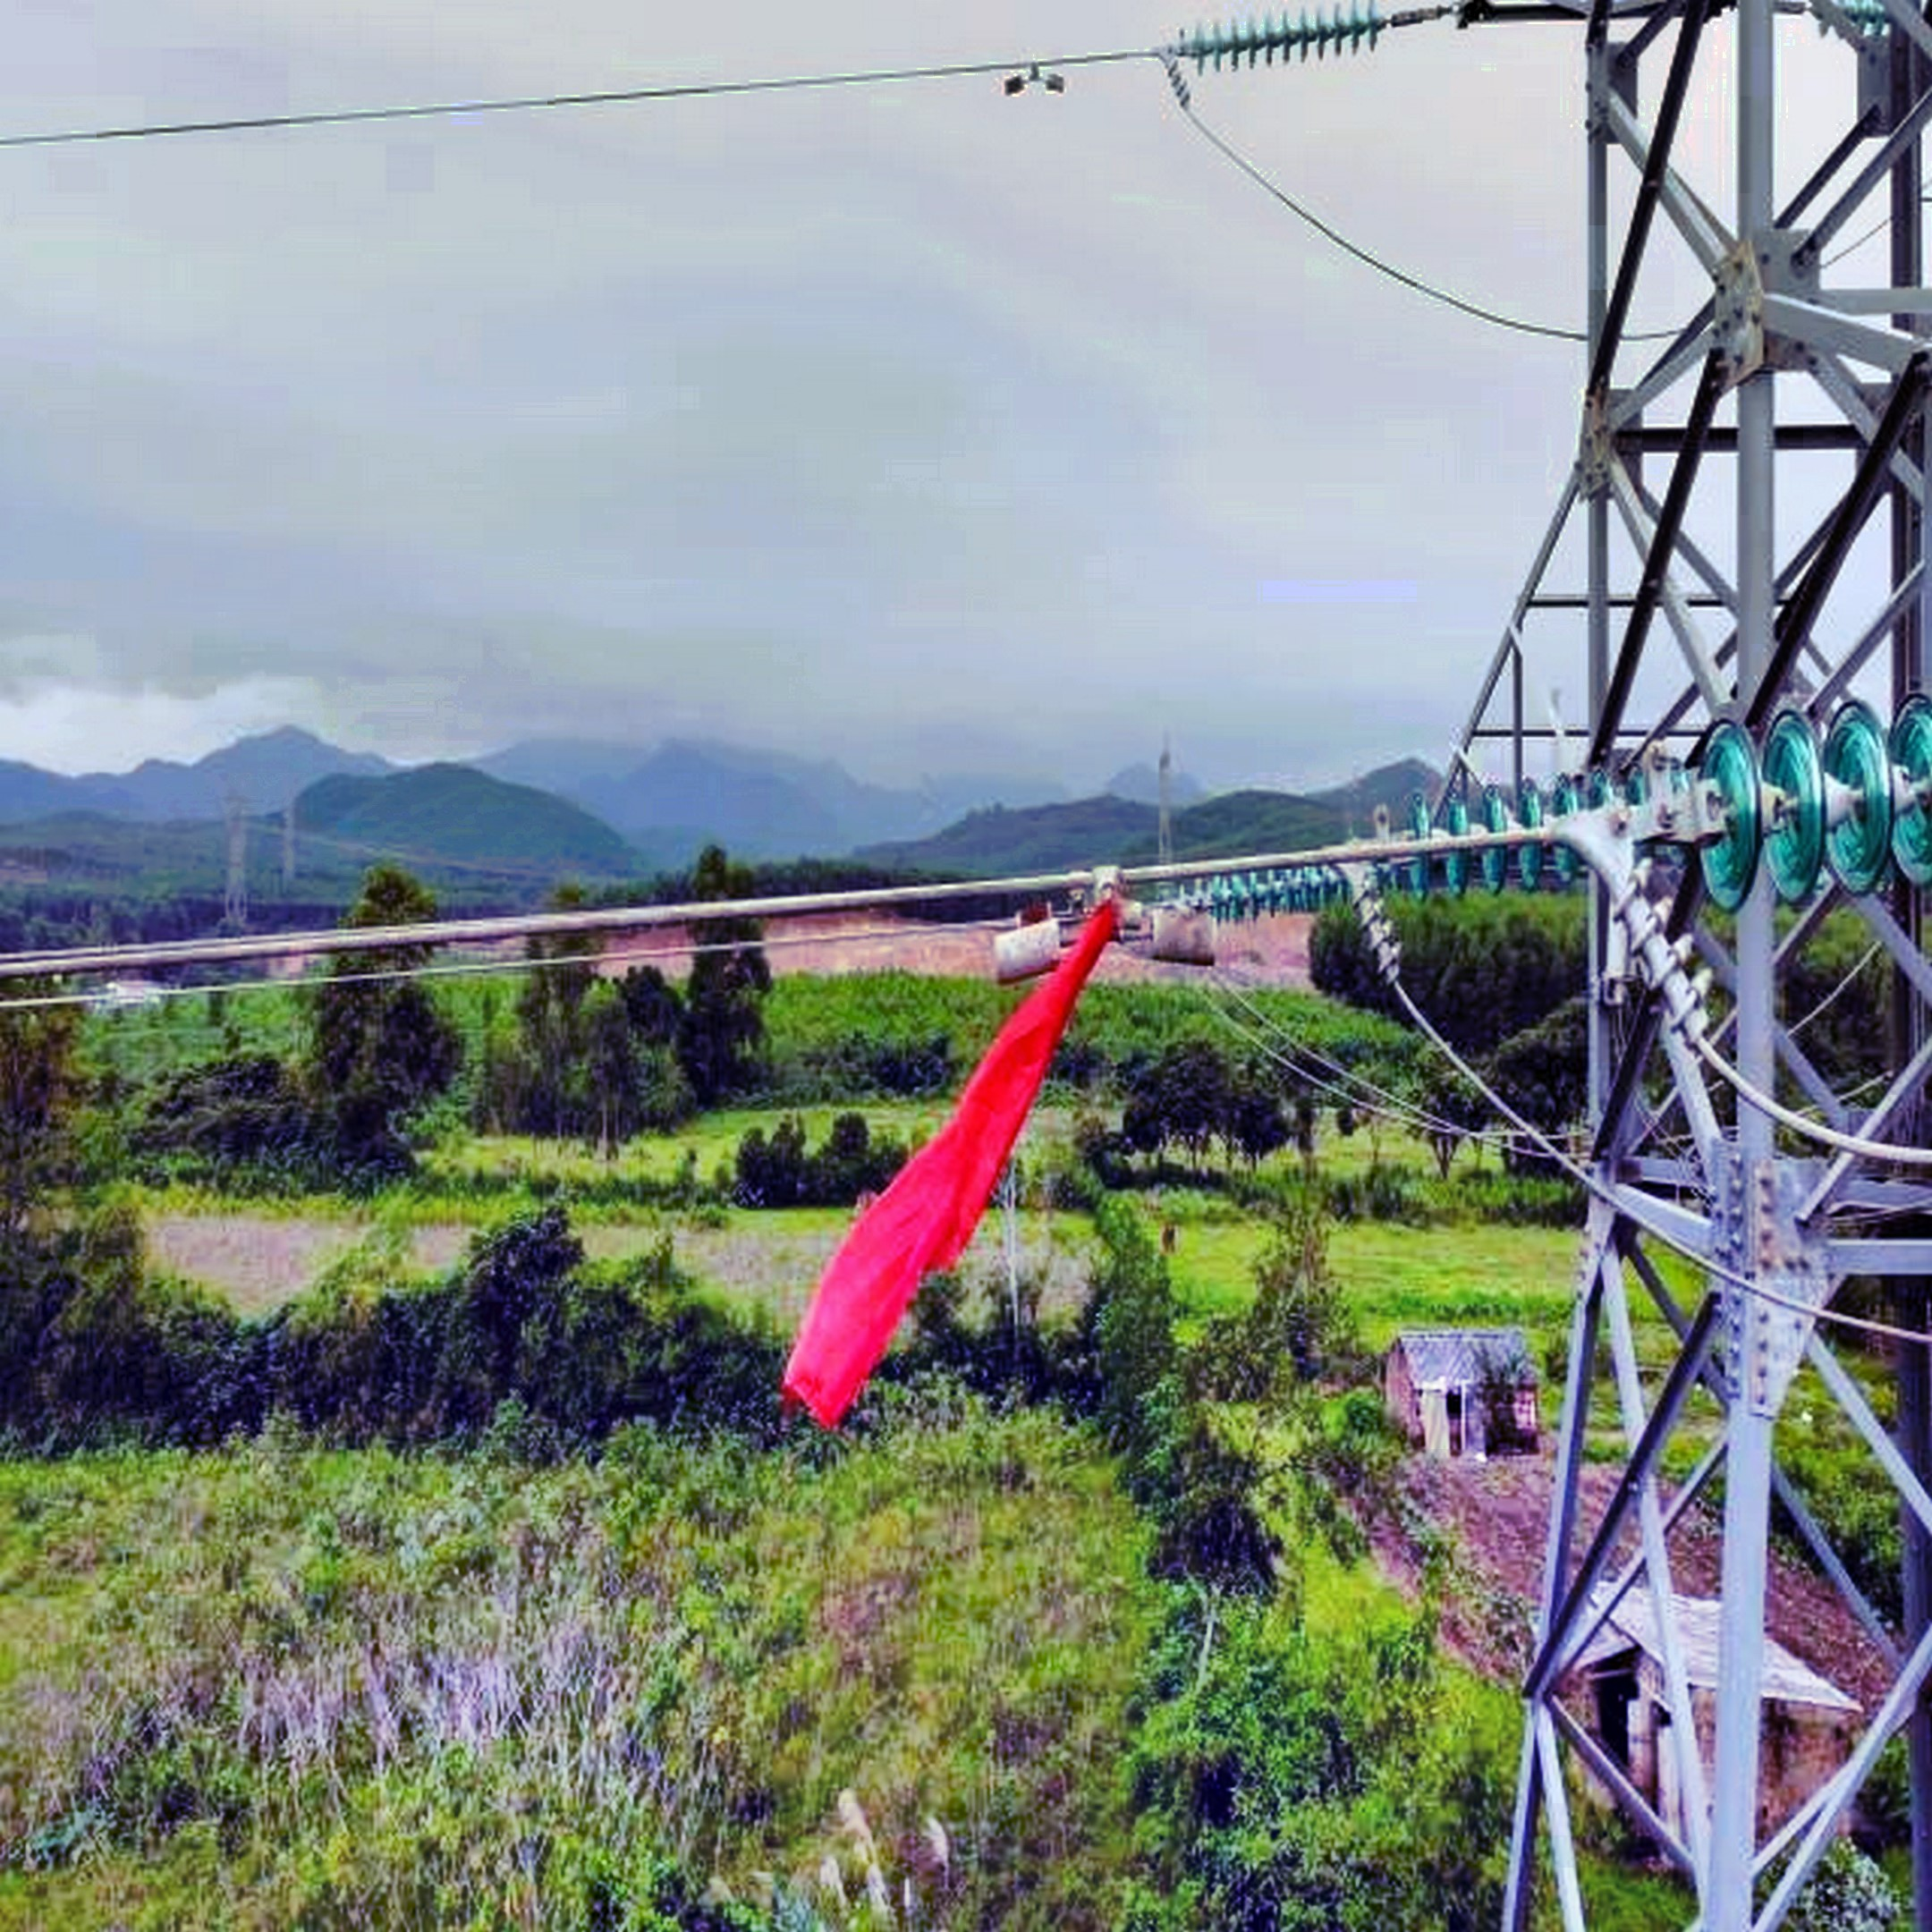wire foreign body: (763, 846, 1175, 1435)
